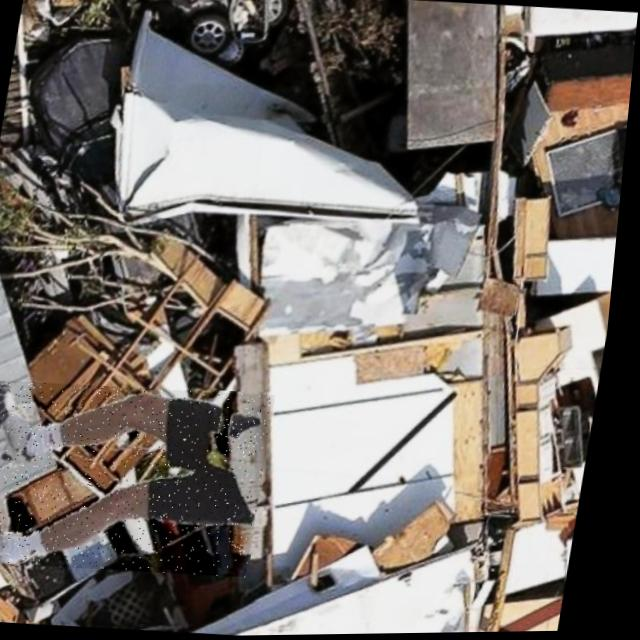Person in Rubble: (0, 375, 284, 581)
